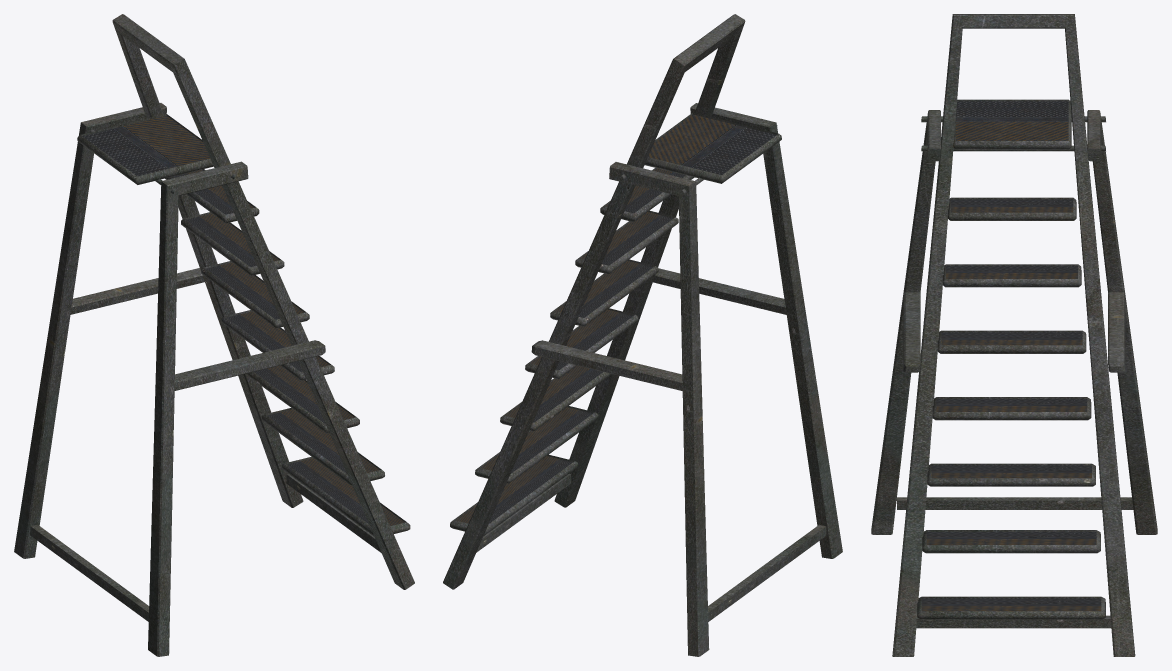
The model's file is ladder.fbx.
3 views of the same model, side by side, from view 1: azimuth 30°, elevation 25°; view 2: azimuth 150°, elevation 25°; view 3: azimuth 270°, elevation 25° (orthographic).
Bounding box in the file's own units: 79.88 × 153 × 72.31.
